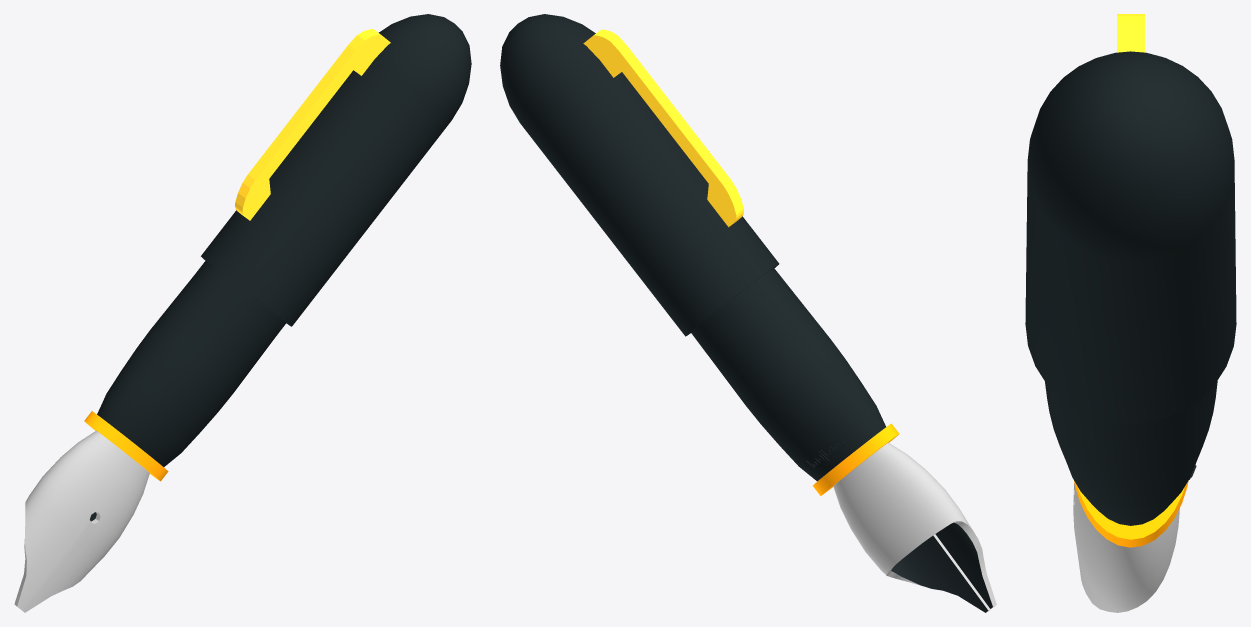
Rendered from fountain_pen.gltf.
3 views of the same model, side by side, from view 1: azimuth 30°, elevation 25°; view 2: azimuth 150°, elevation 25°; view 3: azimuth 270°, elevation 25° (orthographic). The views are drawn at different scales.
Parts seen in each view (by area): view 1: Cylinder.505, Cylinder.507; view 2: Cylinder.505, Cylinder.507; view 3: Cylinder.505, Cylinder.507.
Part boxes in pixels (x1,y1,x2,y2): Cylinder.505: (14, 14, 471, 612); Cylinder.507: (235, 29, 390, 220); Cylinder.505: (500, 14, 996, 612); Cylinder.507: (583, 29, 743, 227); Cylinder.505: (1025, 51, 1236, 612); Cylinder.507: (1117, 14, 1144, 52).
Size of the model in its own units: 2.08 by 2.08 by 0.4513.
Materials: 1 (1 with a texture image).
